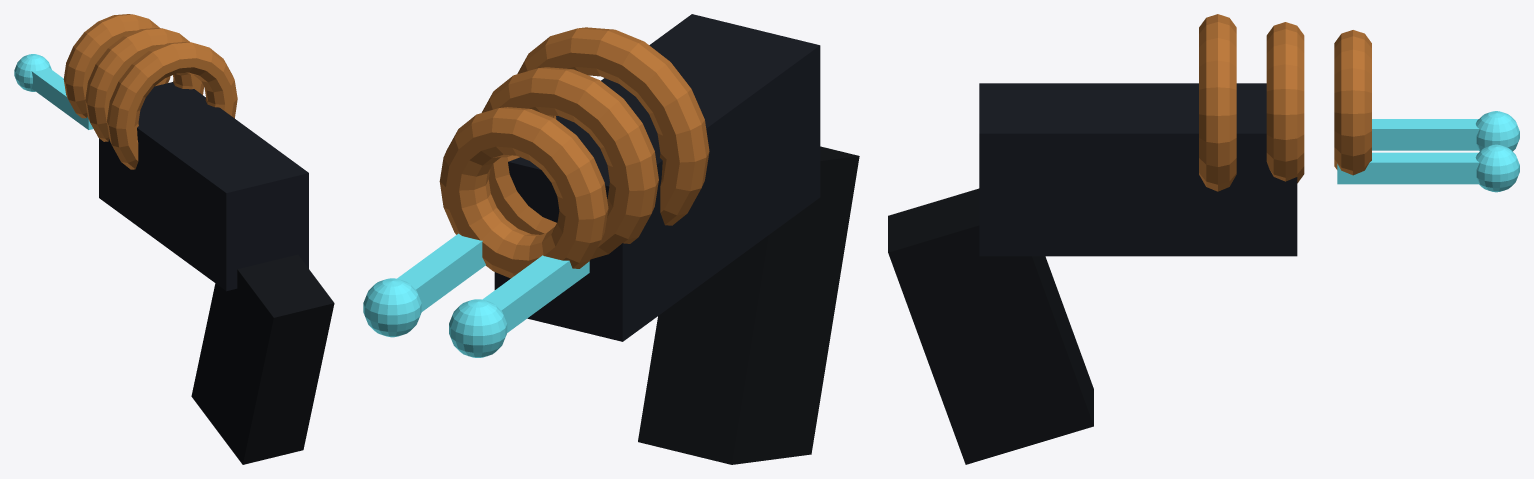
The model's file is tesla.glb.
The picture shows the model from 3 angles, left to right: view 1: azimuth 30°, elevation 25°; view 2: azimuth 150°, elevation 25°; view 3: azimuth 270°, elevation 25°; orthographic projection. The views are drawn at different scales.
Visible parts, largest first — view 1: Cube, Cube.001, Torus, Torus.001, Torus.002, Cube.003, Sphere.001; view 2: Cube, Cube.001, Torus.002, Torus.001, Torus, Cube.003, Cube.002, Sphere, Sphere.001; view 3: Cube, Cube.001, Torus, Torus.001, Torus.002, Cube.002, Cube.003, Sphere, Sphere.001.
Boxes of the visible parts, <box> form: Cube: <box>99,82,308,291</box>; Cube.001: <box>191,254,334,464</box>; Torus: <box>107,41,237,169</box>; Torus.001: <box>85,28,204,141</box>; Torus.002: <box>63,14,170,118</box>; Cube.003: <box>31,67,93,129</box>; Sphere.001: <box>14,54,51,91</box>; Cube: <box>494,14,820,341</box>; Cube.001: <box>638,146,859,464</box>; Torus.002: <box>439,107,608,278</box>; Torus.001: <box>481,67,658,259</box>; Torus: <box>517,27,709,225</box>; Cube.003: <box>482,255,589,332</box>; Cube.002: <box>397,233,485,311</box>; Sphere: <box>363,278,421,337</box>; Sphere.001: <box>449,299,507,357</box>; Cube: <box>979,83,1297,256</box>; Cube.001: <box>888,188,1093,464</box>; Torus: <box>1199,14,1236,191</box>; Torus.001: <box>1266,22,1304,183</box>; Torus.002: <box>1334,30,1371,175</box>; Cube.002: <box>1337,152,1479,184</box>; Cube.003: <box>1372,119,1479,150</box>; Sphere: <box>1475,144,1519,192</box>; Sphere.001: <box>1476,111,1519,151</box>.
Size of the model in its own units: 0.46 by 1.18 by 1.59.
